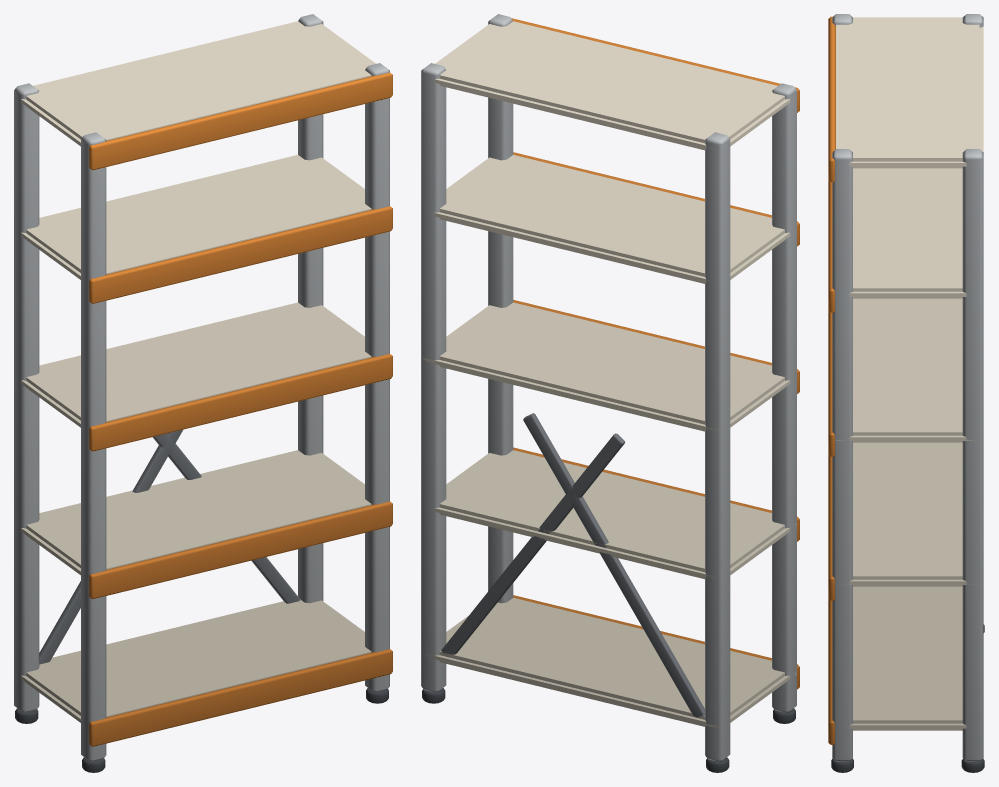
File: UtilityShelf_01.glb
3 views of the same model, side by side, from view 1: azimuth 30°, elevation 25°; view 2: azimuth 150°, elevation 25°; view 3: azimuth 270°, elevation 25° (orthographic). The views are drawn at different scales.
Visible parts, largest first — view 1: SM_UtilityShelf_01; view 2: SM_UtilityShelf_01; view 3: SM_UtilityShelf_01.
Part boxes in pixels (x1=…): SM_UtilityShelf_01: x1=14, y1=14, x2=392, y2=772; SM_UtilityShelf_01: x1=421, y1=14, x2=799, y2=772; SM_UtilityShelf_01: x1=828, y1=14, x2=984, y2=772.
Bounding box in the file's own units: 0.905 × 1.8 × 0.4125.
1 material, 1 textured.
